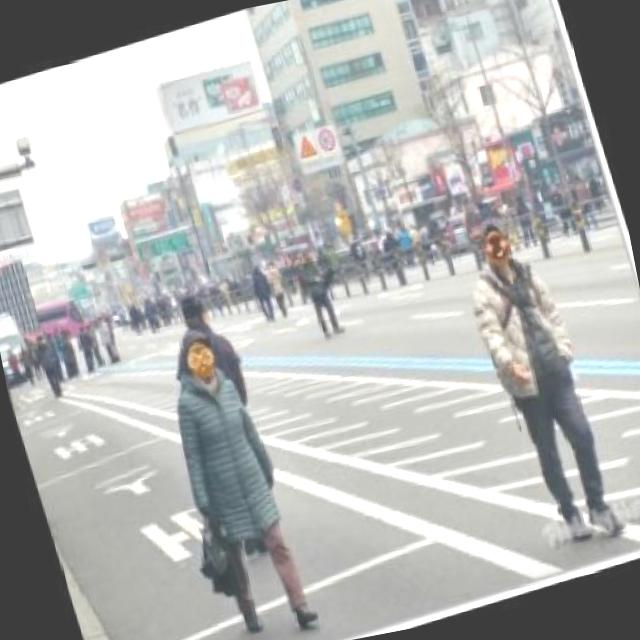Person: (450, 202, 630, 558), (144, 312, 323, 640), (155, 282, 256, 428), (292, 236, 350, 342), (28, 326, 72, 406)
